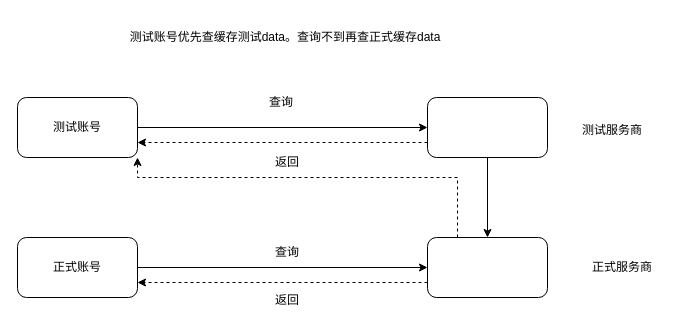
Some shapes in this 675 by 332 pixel diagram are drawn without their labels. Each missing label, with the centre of its shape:
"正式缓存data" belongs at [487,267].
"测试缓存data" belongs at [487,127].
